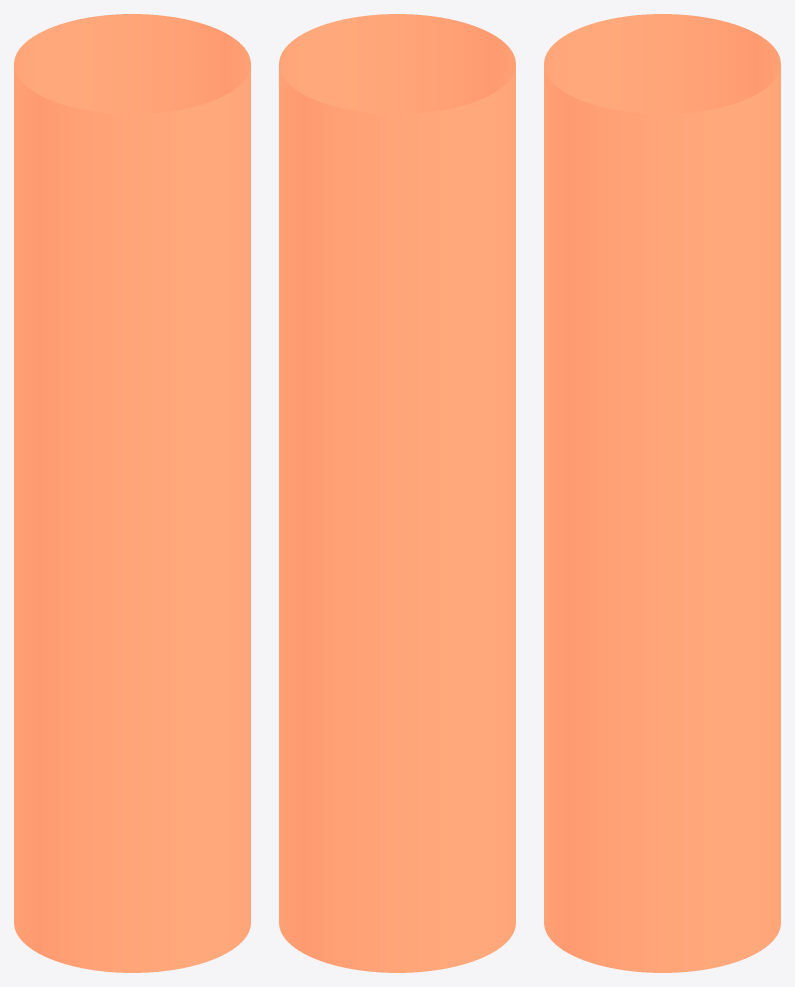
The model's file is zone_ring.glb.
3 renders of one model, left to right at view 1: azimuth 30°, elevation 25°; view 2: azimuth 150°, elevation 25°; view 3: azimuth 270°, elevation 25°, orthographic.
Parts seen in each view (by area): view 1: Vfx_zone_ring; view 2: Vfx_zone_ring; view 3: Vfx_zone_ring.
Part boxes in pixels (left/top/right/bottom): Vfx_zone_ring: left=14, top=14, right=250, bottom=972; Vfx_zone_ring: left=279, top=14, right=515, bottom=972; Vfx_zone_ring: left=544, top=14, right=780, bottom=972.
Bounding box in the file's own units: 2 × 8 × 2.
